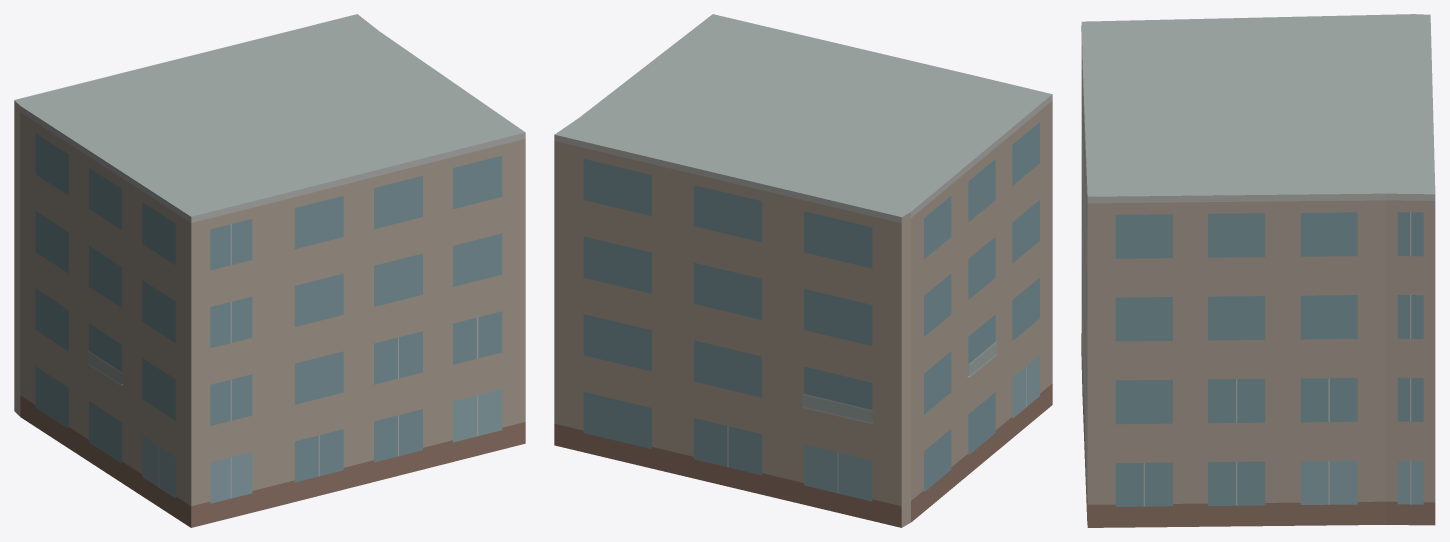
File: survey-upis-32680757.glb
The picture shows the model from 3 angles, left to right: view 1: azimuth 30°, elevation 25°; view 2: azimuth 150°, elevation 25°; view 3: azimuth 270°, elevation 25°; orthographic projection. The views are drawn at different scales.
Visible parts, largest first — view 1: survey-upis-32680757.tmp; view 2: survey-upis-32680757.tmp; view 3: survey-upis-32680757.tmp.
Part boxes in pixels (left/top/right/bottom): survey-upis-32680757.tmp: left=14, top=14, right=525, bottom=527; survey-upis-32680757.tmp: left=554, top=14, right=1052, bottom=527; survey-upis-32680757.tmp: left=1081, top=14, right=1435, bottom=527.
Bounding box in the file's own units: 14.45 × 12.2 × 11.83.
